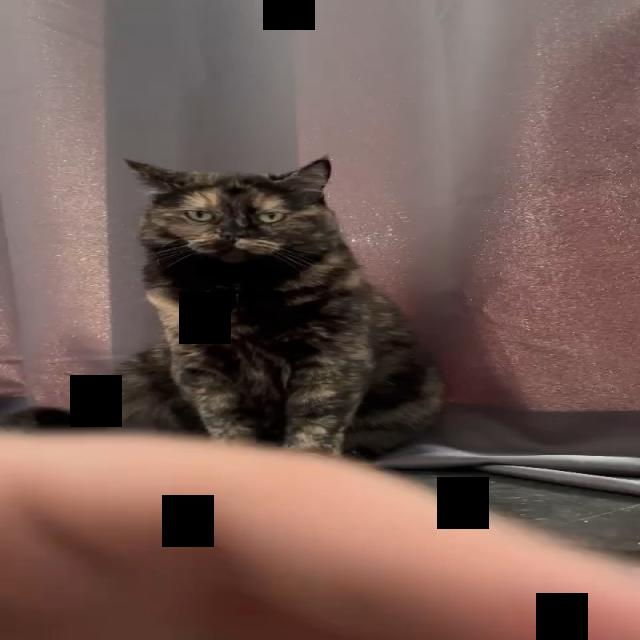authorized: (102, 154, 446, 460)
